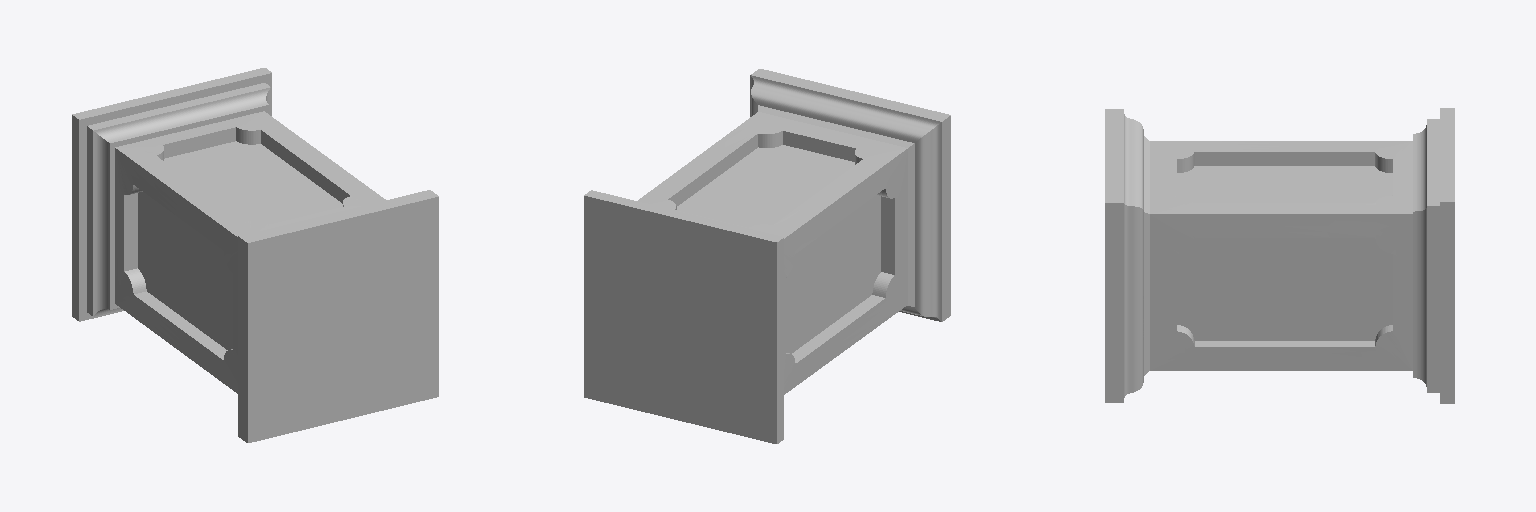
Rendered from pedestal.obj.
3 views of the same model, side by side, from view 1: azimuth 30°, elevation 25°; view 2: azimuth 150°, elevation 25°; view 3: azimuth 270°, elevation 25° (orthographic).
Parts seen in each view (by area): view 1: 10421_square_pedastal_v1; view 2: 10421_square_pedastal_v1; view 3: 10421_square_pedastal_v1.
Part boxes in pixels (left/top/right/bottom): 10421_square_pedastal_v1: left=72, top=68, right=438, bottom=442; 10421_square_pedastal_v1: left=584, top=69, right=950, bottom=443; 10421_square_pedastal_v1: left=1105, top=108, right=1454, bottom=403.
Bounding box in the file's own units: 53.26 × 53.25 × 83.63.